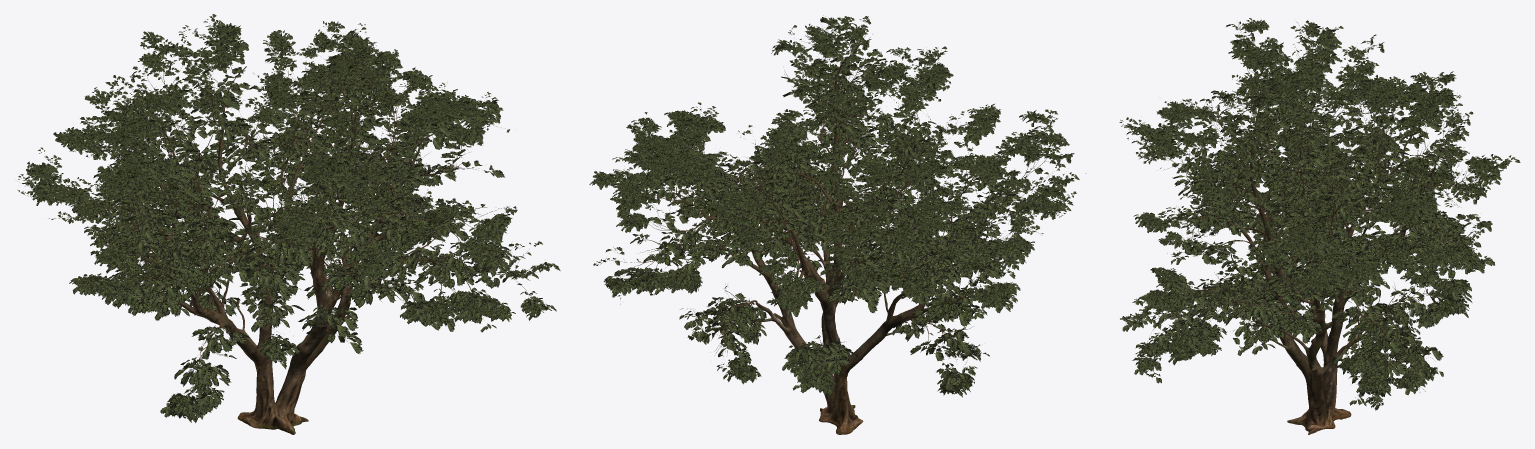
The model's file is jacaranda_tree.glb.
3 renders of one model, left to right at view 1: azimuth 30°, elevation 25°; view 2: azimuth 150°, elevation 25°; view 3: azimuth 270°, elevation 25°, orthographic. The views are drawn at different scales.
Visible parts, largest first — view 1: jacaranda_tree_LOD0; view 2: jacaranda_tree_LOD0; view 3: jacaranda_tree_LOD0.
Part boxes in pixels (x1,y1,x2,y2): jacaranda_tree_LOD0: (18,14,560,434); jacaranda_tree_LOD0: (589,15,1085,434); jacaranda_tree_LOD0: (1119,18,1520,434).
Size of the model in its own units: 24.39 by 19.44 by 19.12.
3 materials, 3 textured.
